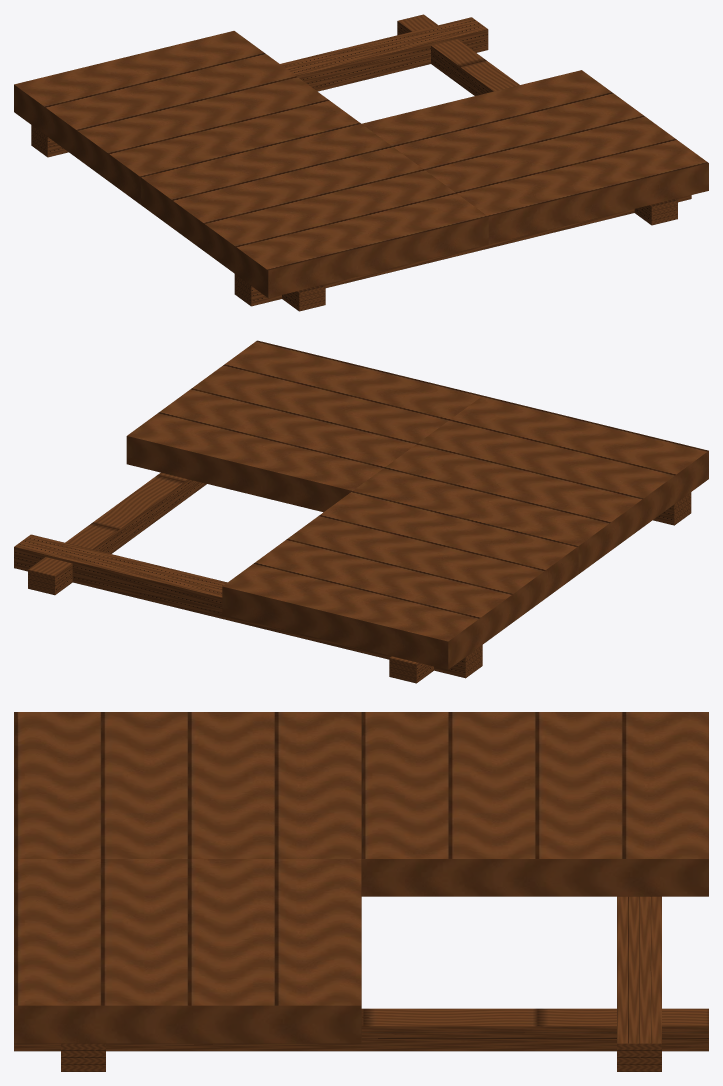
File: modular-survival-base-builder-floor-quarter-return-3f152474__24151.glb
3 renders of one model, top to bottom at view 1: azimuth 30°, elevation 25°; view 2: azimuth 150°, elevation 25°; view 3: azimuth 270°, elevation 25°, orthographic. The views are drawn at different scales.
Parts seen in each view (by area): view 1: floor-quarter-return; view 2: floor-quarter-return; view 3: floor-quarter-return.
Boxes of the visible parts, <box> form: floor-quarter-return: <box>14,14,708,311</box>; floor-quarter-return: <box>14,340,708,683</box>; floor-quarter-return: <box>14,712,708,1071</box>.
Size of the model in its own units: 2 by 0.21 by 2.
Materials: 1 (1 with a texture image).
